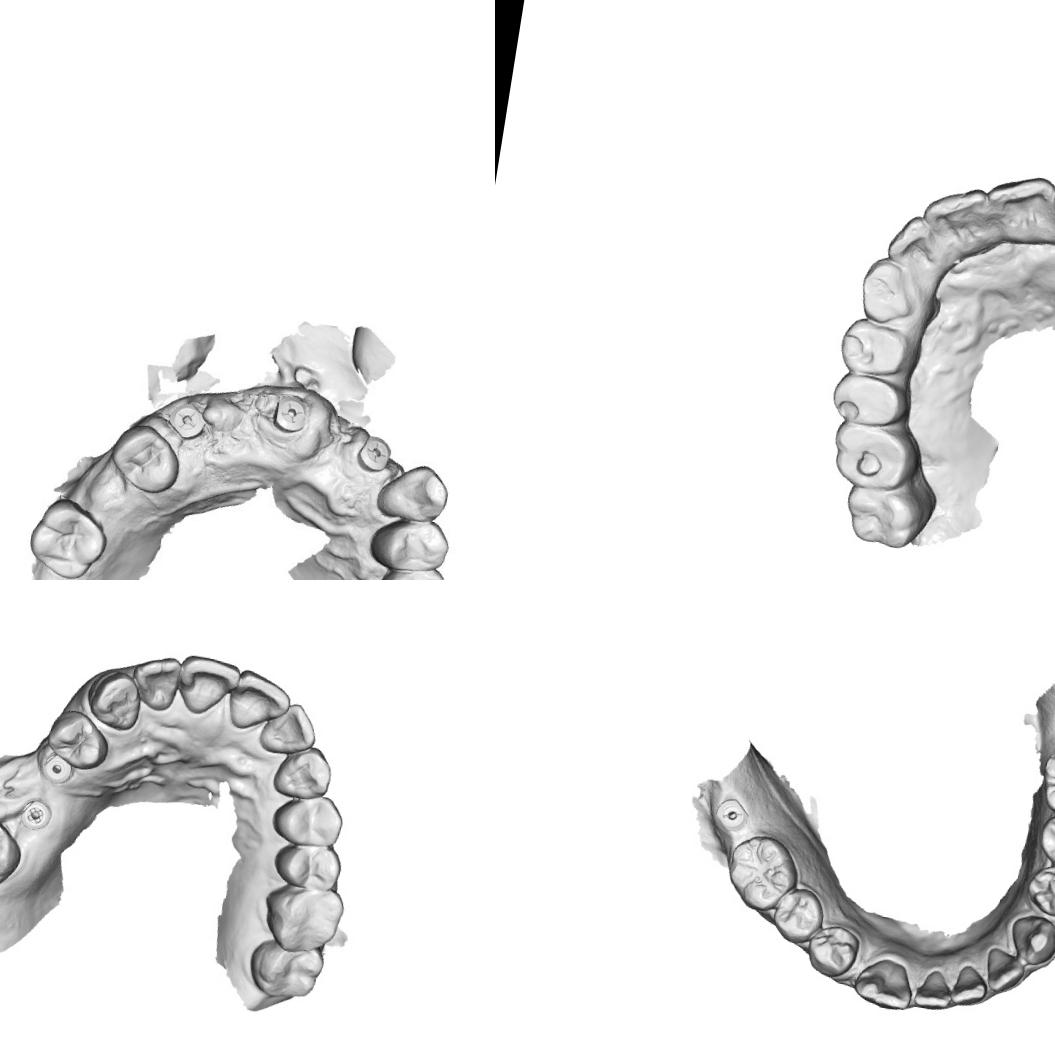canine: (374, 458, 452, 528), (852, 256, 919, 326), (81, 666, 146, 734), (270, 740, 336, 806), (1004, 910, 1055, 970), (849, 953, 894, 1007)
implant: (38, 749, 78, 787)
implant_minus: (712, 794, 752, 836)
implant_plus: (12, 786, 65, 838), (349, 428, 398, 478), (264, 396, 310, 438), (169, 402, 211, 445)
incisor: (172, 651, 243, 724), (984, 171, 1055, 241), (225, 666, 295, 737), (256, 697, 322, 760), (923, 184, 991, 244), (127, 651, 184, 714), (882, 210, 942, 268), (872, 959, 918, 1017), (980, 946, 1028, 997), (910, 965, 957, 1015), (948, 962, 991, 1011)
molar: (837, 472, 931, 558), (20, 492, 111, 580), (720, 828, 807, 918), (256, 878, 348, 960), (829, 420, 917, 494), (244, 933, 324, 1007), (0, 805, 28, 893), (1034, 737, 1055, 824)
premolar: (106, 416, 188, 500), (364, 512, 454, 580), (266, 786, 348, 852), (826, 368, 910, 430), (836, 317, 914, 382), (42, 706, 114, 774), (269, 837, 345, 894), (767, 882, 829, 948), (802, 920, 865, 982), (1022, 861, 1055, 921), (372, 563, 459, 580), (1034, 811, 1055, 874)
